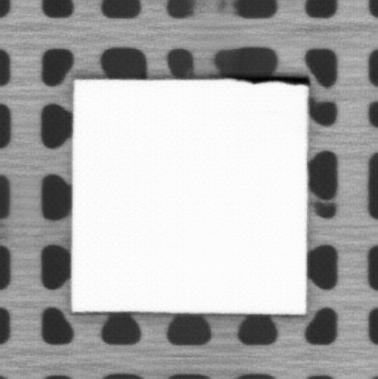DIE_BROKEN: (226, 74, 312, 87)
